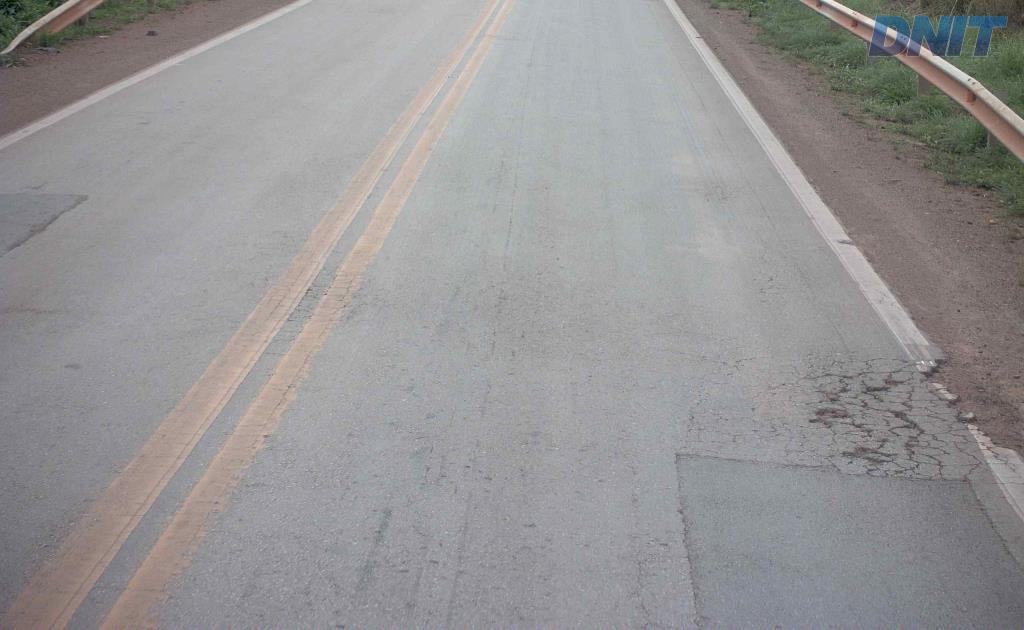crack: (803, 367, 983, 481)
